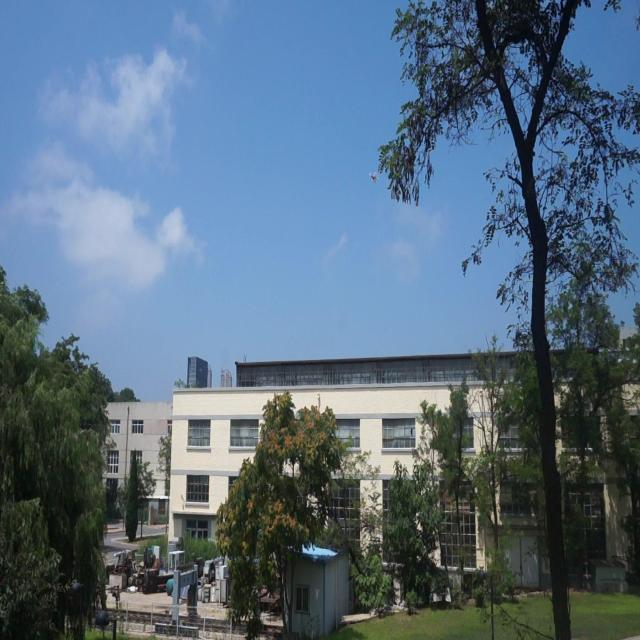drone: (368, 169, 379, 185)
